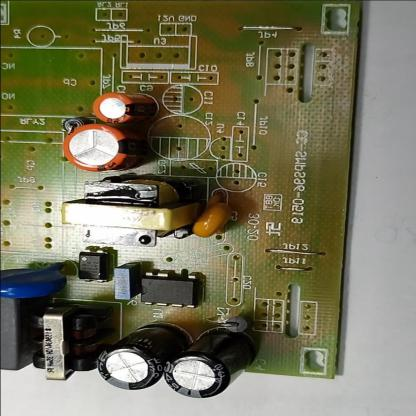Cap1: (61, 126, 141, 171)
Cap2: (92, 93, 154, 124)
Cap3: (95, 329, 167, 388)
Cap4: (166, 328, 258, 400)
MOSFET: (135, 272, 197, 308)
Mov: (1, 263, 66, 299)
Transformer: (58, 172, 197, 246), (24, 303, 104, 383)
